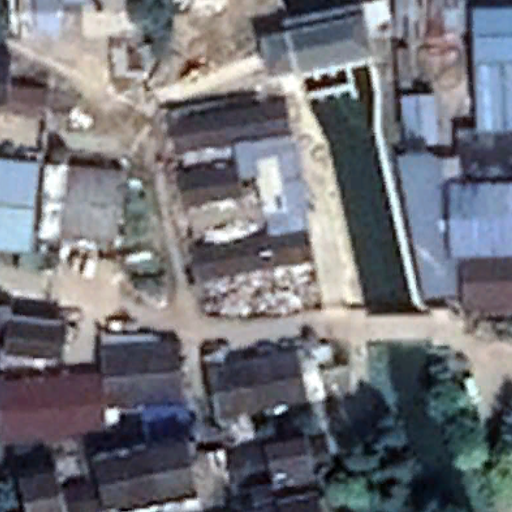msw: (198, 257, 322, 314)
